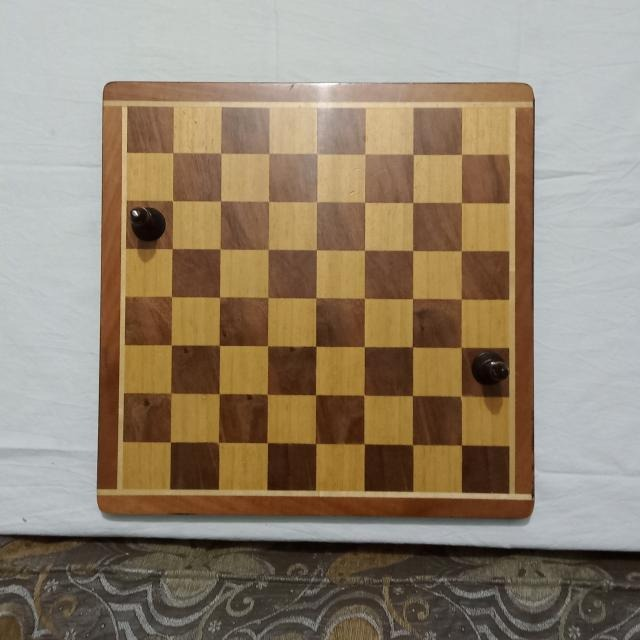black-bishop: (126, 204, 165, 244), (471, 350, 509, 389)
